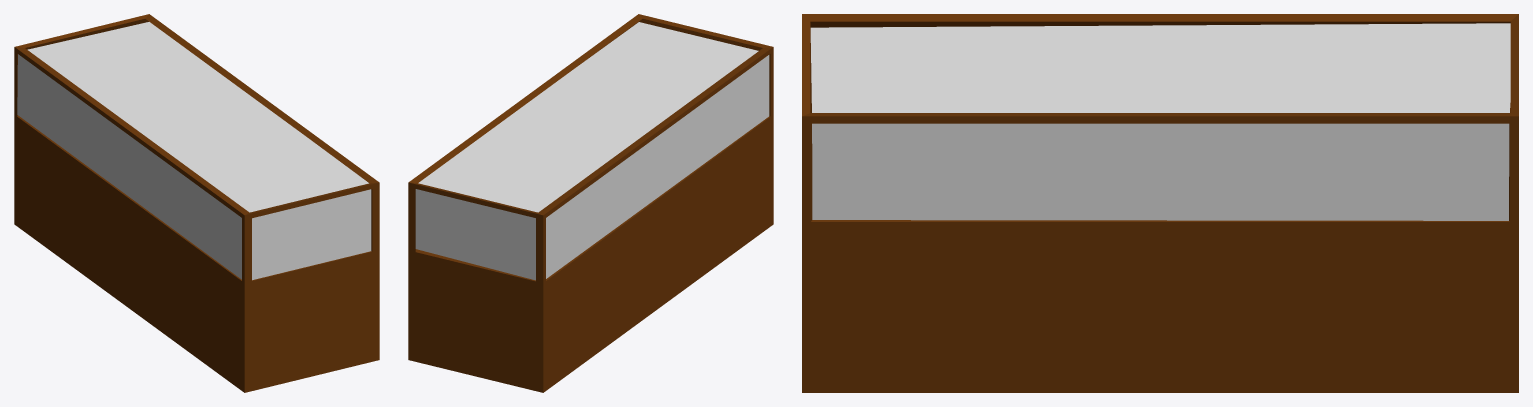
File: VITRINA1.fbx
The picture shows the model from 3 angles, left to right: view 1: azimuth 30°, elevation 25°; view 2: azimuth 150°, elevation 25°; view 3: azimuth 270°, elevation 25°; orthographic projection. The views are drawn at different scales.
Parts seen in each view (by area): view 1: Cube.007; view 2: Cube.007; view 3: Cube.007.
Part boxes in pixels (box(x1,y1,x2,y2)): Cube.007: box(14, 14, 379, 392); Cube.007: box(408, 14, 773, 392); Cube.007: box(802, 14, 1518, 392).
Size of the model in its own units: 200 by 252 by 591.
